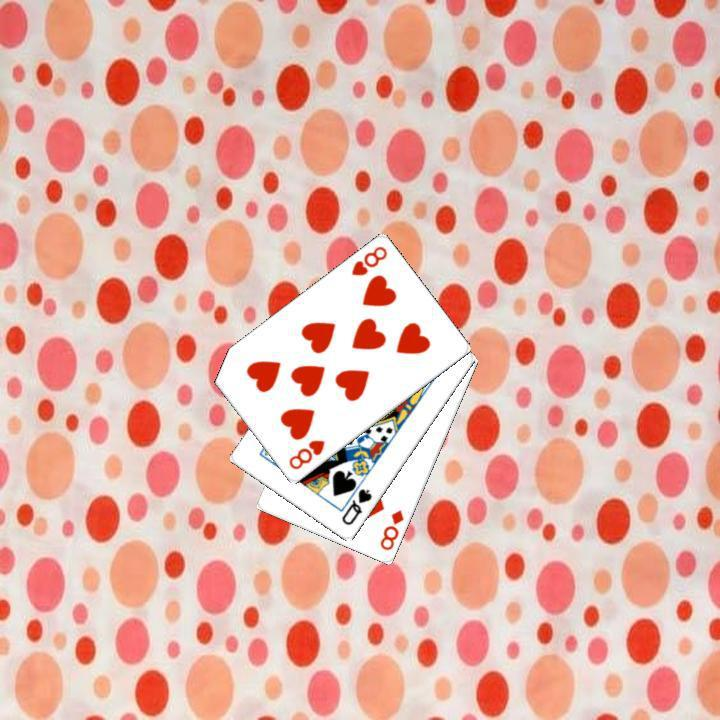8: (347, 242, 389, 279), (284, 436, 327, 472), (376, 505, 406, 553)
Q: (337, 485, 374, 528)
